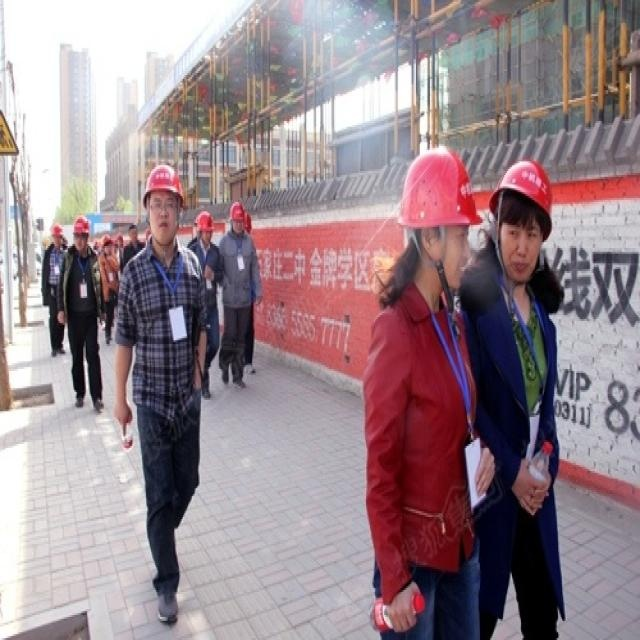Con_Casco: (406, 146, 475, 281), (493, 160, 552, 272), (145, 165, 184, 240)
